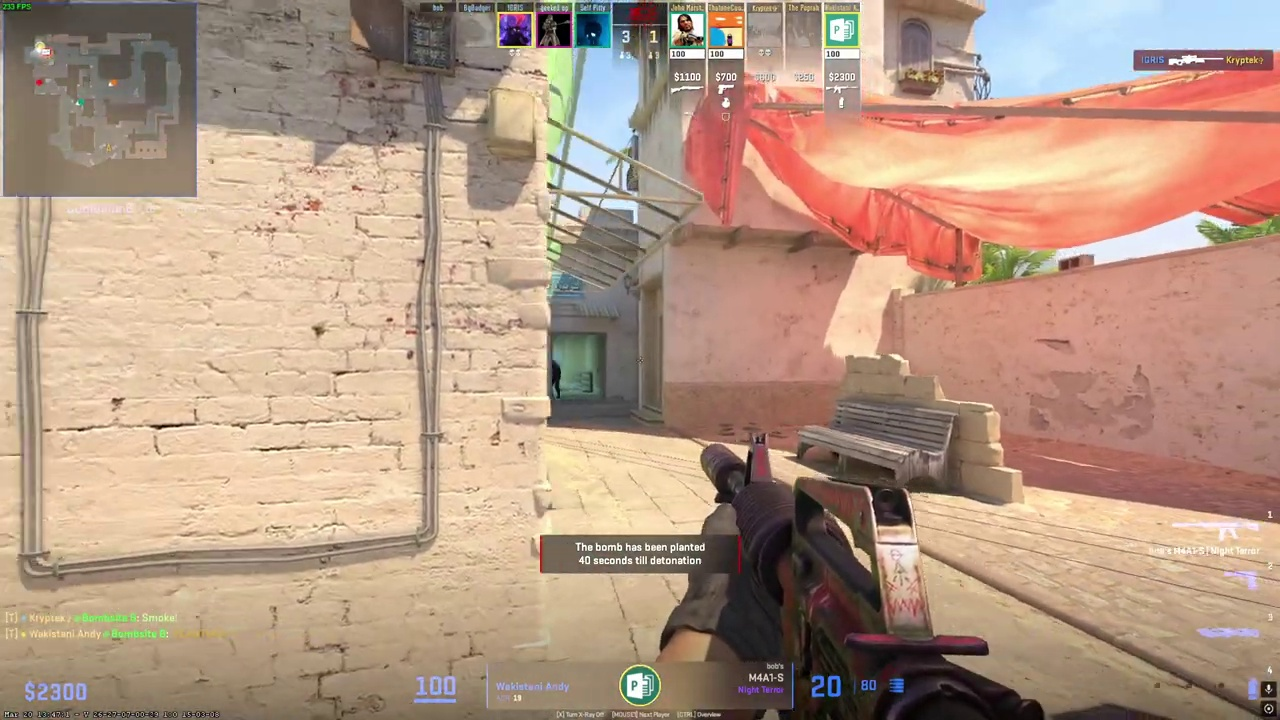CT: (551, 360, 561, 398)
